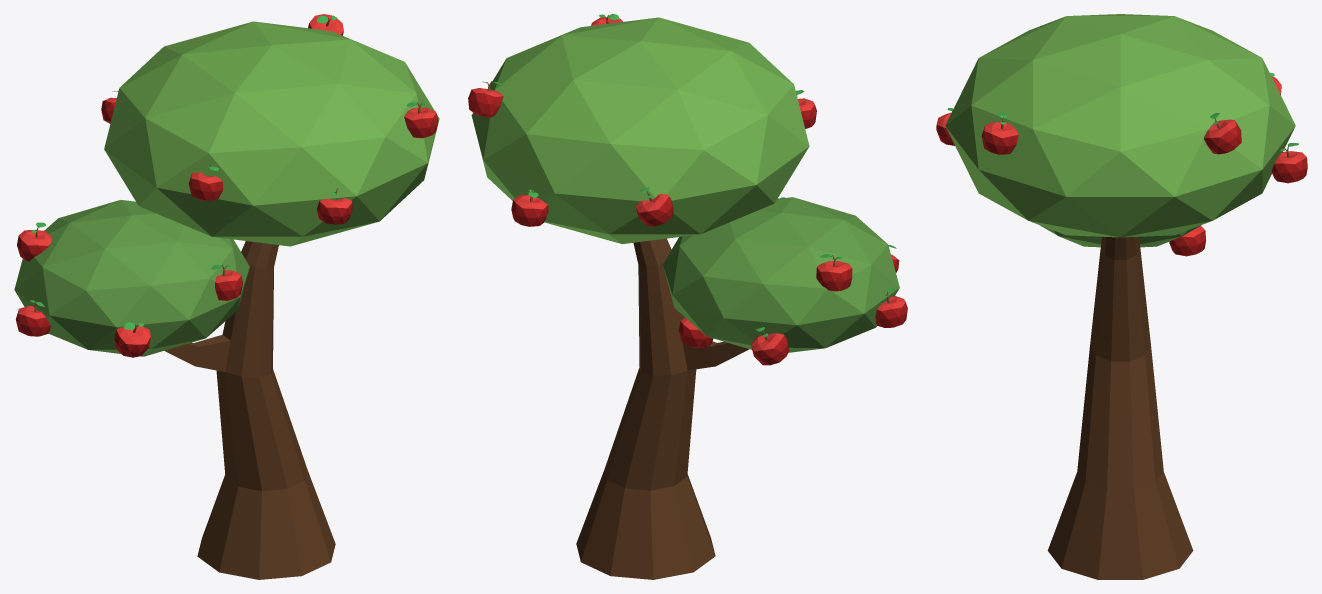
Rendered from APPLE TREE.fbx.
The picture shows the model from 3 angles, left to right: view 1: azimuth 30°, elevation 25°; view 2: azimuth 150°, elevation 25°; view 3: azimuth 270°, elevation 25°; orthographic projection. The views are drawn at different scales.
Parts seen in each view (by area): view 1: Icosphere.003; view 2: Icosphere.003; view 3: Icosphere.003.
Part boxes in pixels (left/top/right/bottom): Icosphere.003: left=14, top=14, right=439, bottom=579; Icosphere.003: left=468, top=14, right=907, bottom=579; Icosphere.003: left=936, top=14, right=1307, bottom=579.
Bounding box in the file's own units: 3005 × 3618 × 2347.
